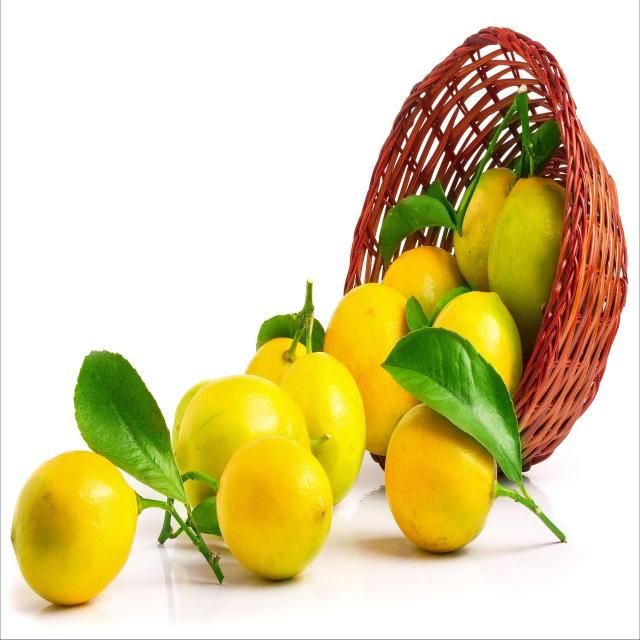lemon: (5, 444, 146, 615), (212, 430, 336, 586)
